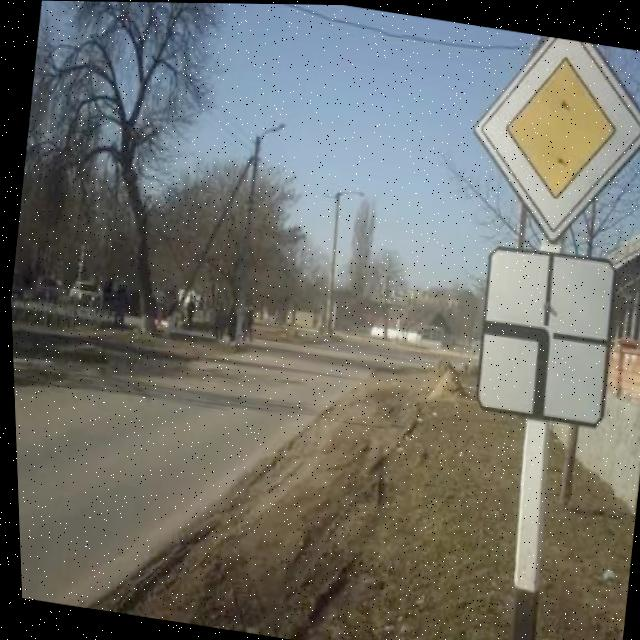signs: (454, 24, 640, 251)
